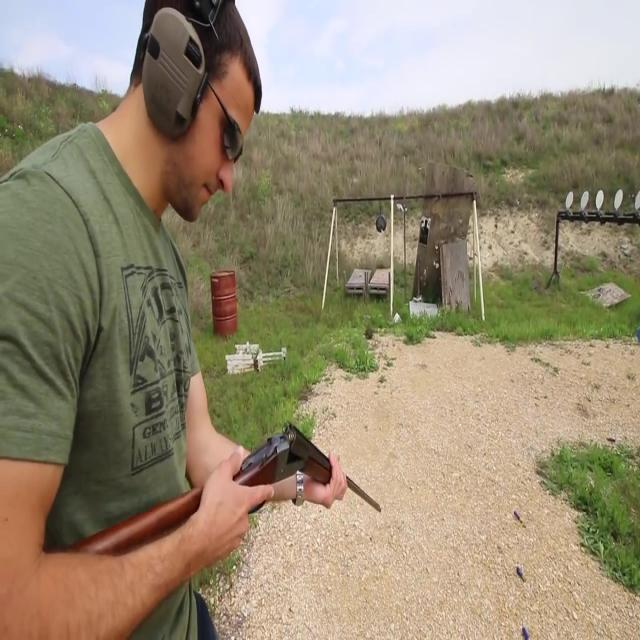Weapon: (88, 411, 425, 576)
